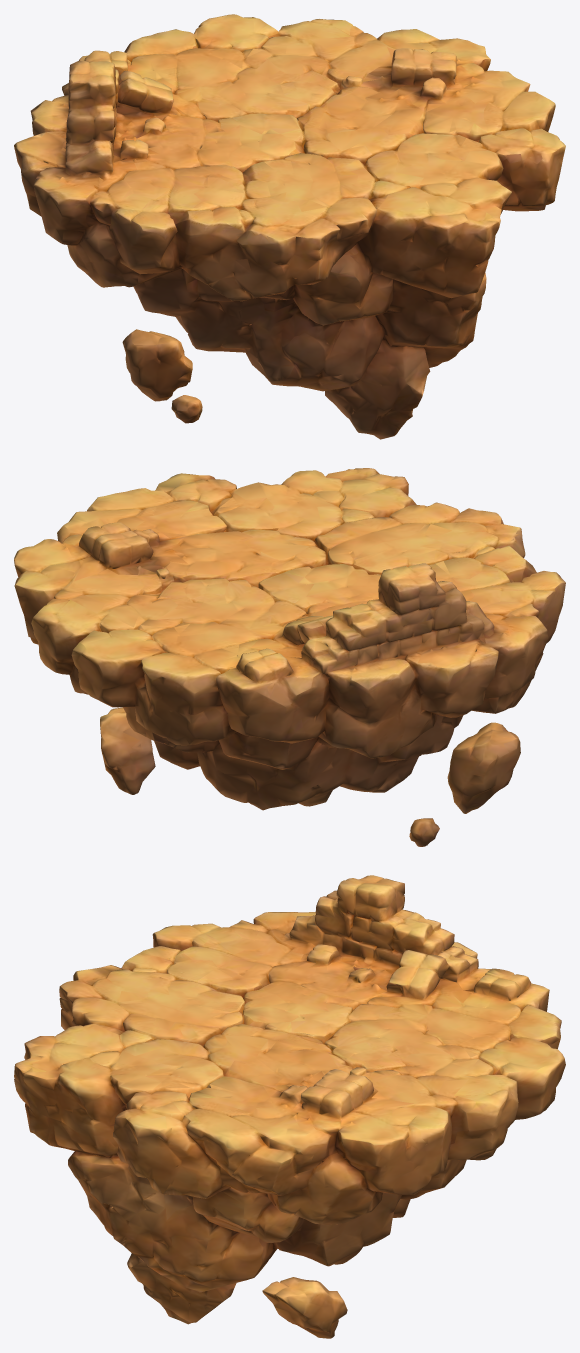
File: R1_Island_Small.fbx
The picture shows the model from 3 angles, top to bottom: view 1: azimuth 30°, elevation 25°; view 2: azimuth 150°, elevation 25°; view 3: azimuth 270°, elevation 25°; orthographic projection.
Visible parts, largest first — view 1: R1_Island_Small; view 2: R1_Island_Small; view 3: R1_Island_Small.
Boxes of the visible parts, x1=… form: R1_Island_Small: x1=14, y1=14, x2=565, y2=439; R1_Island_Small: x1=14, y1=468, x2=565, y2=846; R1_Island_Small: x1=14, y1=875, x2=565, y2=1338.
Size of the model in its own units: 520 by 360 by 520.
1 material, 1 textured.
